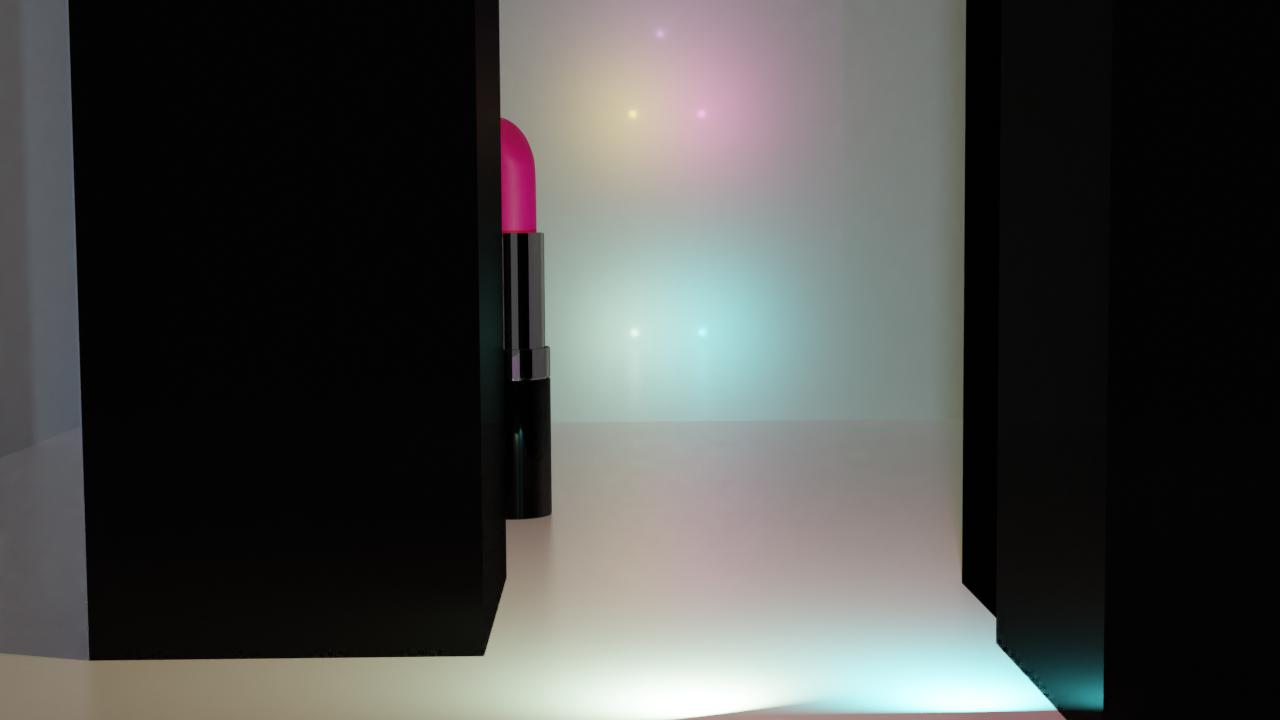CLASSIFIER_NAME: (474, 112, 552, 519)
